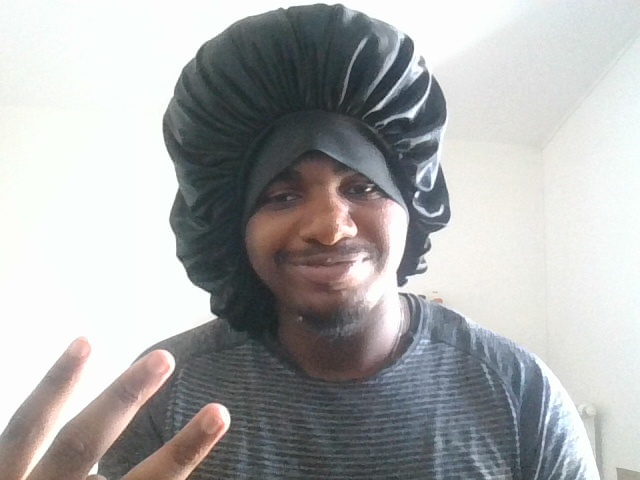I am Better Than Yu: (1, 324, 285, 480)
